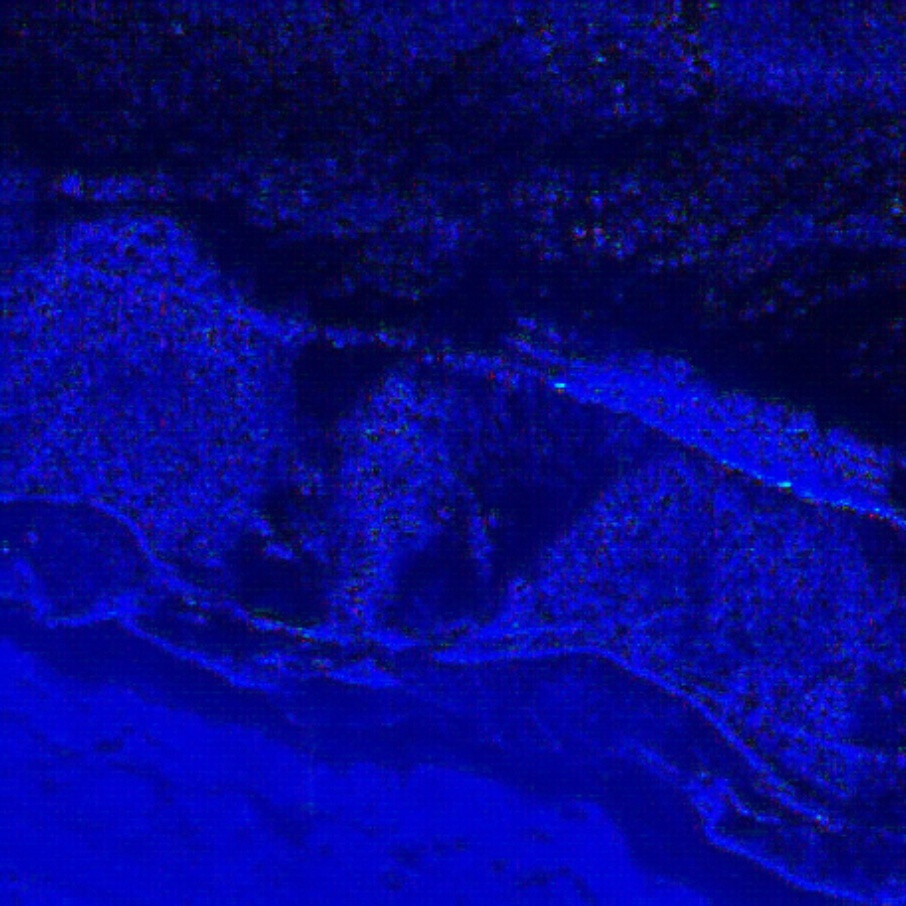rip_current: (402, 255, 672, 690)
